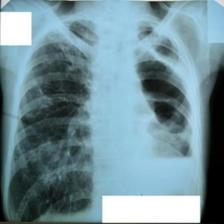tuberculosis: (0, 12, 202, 224)
